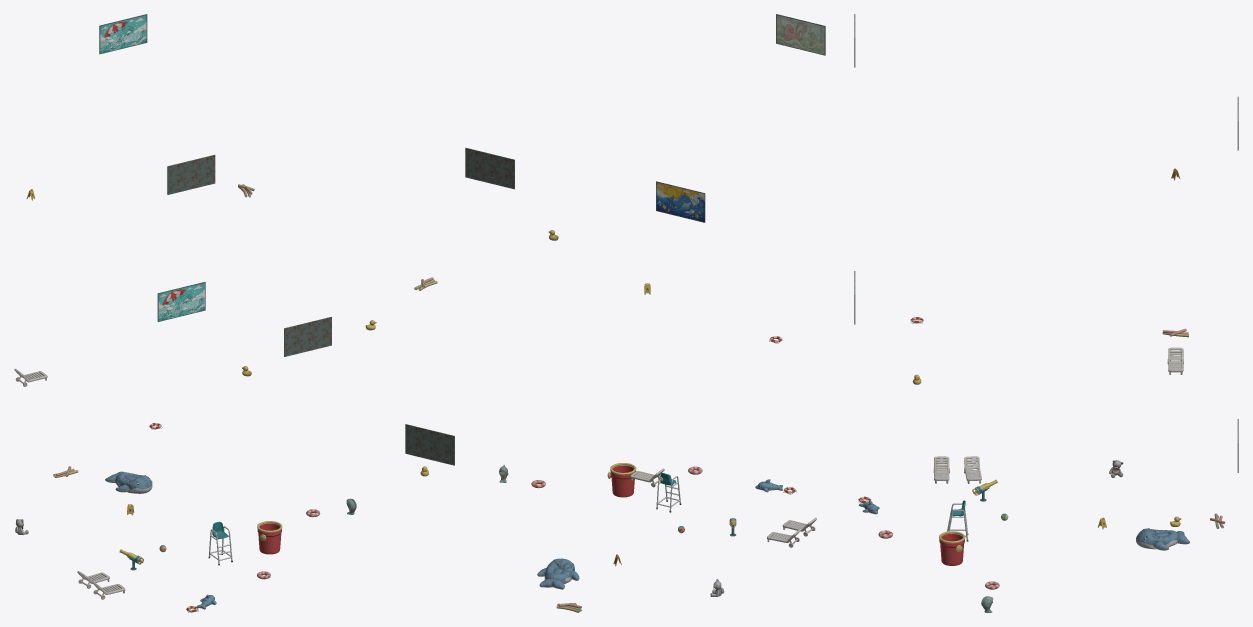
File: torre_prop.glb
3 views of the same model, side by side, from view 1: azimuth 30°, elevation 25°; view 2: azimuth 150°, elevation 25°; view 3: azimuth 270°, elevation 25° (orthographic). The views are drawn at different scales.
Visible parts, largest first — view 1: torre_cartellone_0, torre_cartellone_2, torre_cartellone_3, torre_cartellone_1, prop_balena_gonfiabile_sgonfia_1, prop_secchio_gigante_1, prop_sedia_bagnino_1; view 2: torre_cartellone_1, torre_cartellone_2, torre_cartellone_3, torre_cartellone_0, prop_balena_gonfiabile_sgonfia_1, prop_secchio_gigante_1; view 3: prop_balena_gonfiabile_sgonfia_1, prop_secchio_gigante_1.
Part boxes in pixels (x1=…): torre_cartellone_0: x1=99, y1=14, x2=147, y2=54; torre_cartellone_2: x1=167, y1=154, x2=215, y2=194; torre_cartellone_3: x1=157, y1=282, x2=205, y2=321; torre_cartellone_1: x1=284, y1=317, x2=331, y2=356; prop_balena_gonfiabile_sgonfia_1: x1=105, y1=471, x2=152, y2=493; prop_secchio_gigante_1: x1=257, y1=521, x2=282, y2=554; prop_sedia_bagnino_1: x1=208, y1=521, x2=232, y2=565; torre_cartellone_1: x1=656, y1=181, x2=705, y2=222; torre_cartellone_2: x1=776, y1=14, x2=825, y2=55; torre_cartellone_3: x1=405, y1=424, x2=454, y2=465; torre_cartellone_0: x1=465, y1=148, x2=514, y2=189; prop_balena_gonfiabile_sgonfia_1: x1=537, y1=558, x2=579, y2=589; prop_secchio_gigante_1: x1=607, y1=463, x2=636, y2=497; prop_balena_gonfiabile_sgonfia_1: x1=1136, y1=528, x2=1189, y2=550; prop_secchio_gigante_1: x1=939, y1=531, x2=965, y2=565.
Size of what is drawn, in the model's own units: 19.44 by 29.84 by 22.
Materials: 18 (18 with a texture image).
